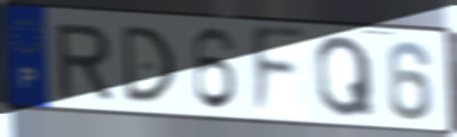6: (190, 24, 240, 113), (385, 38, 433, 123)
D: (119, 23, 178, 105)
F: (250, 23, 308, 120)
Q: (313, 33, 378, 120)
R: (52, 22, 116, 101)
